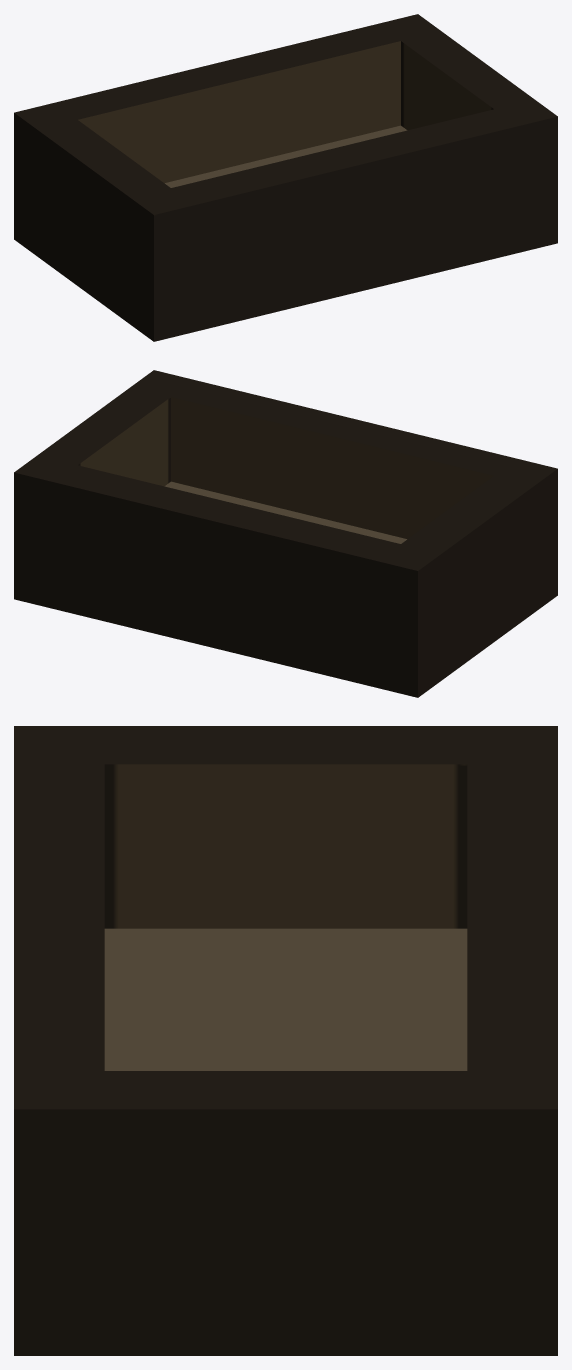
File: home.gltf
3 renders of one model, top to bottom at view 1: azimuth 30°, elevation 25°; view 2: azimuth 150°, elevation 25°; view 3: azimuth 270°, elevation 25°, orthographic. The views are drawn at different scales.
Parts seen in each view (by area): view 1: Cube.002, Cube.001, Cube.003, Cube.004, Cube; view 2: Cube.001, Cube.002, Cube.003, Cube.004, Cube; view 3: Cube.004, Cube.003, Cube.001, Cube.002, Cube.
Boxes of the visible parts, <box> form: Cube.002: <box>130,99,557,341</box>; Cube.001: <box>14,14,440,255</box>; Cube.003: <box>37,120,170,324</box>; Cube.004: <box>401,31,534,130</box>; Cube: <box>165,125,407,187</box>; Cube.001: <box>14,455,441,697</box>; Cube.002: <box>131,370,557,611</box>; Cube.003: <box>401,476,534,680</box>; Cube.004: <box>37,387,170,486</box>; Cube: <box>164,481,406,543</box>; Cube.004: <box>104,1071,467,1355</box>; Cube.003: <box>104,726,467,928</box>; Cube.001: <box>467,726,557,1355</box>; Cube.002: <box>14,726,104,1355</box>; Cube: <box>104,928,467,1070</box>.
Bounding box in the file's own units: 20 × 6 × 12.
Materials: 1 (1 with a texture image).
